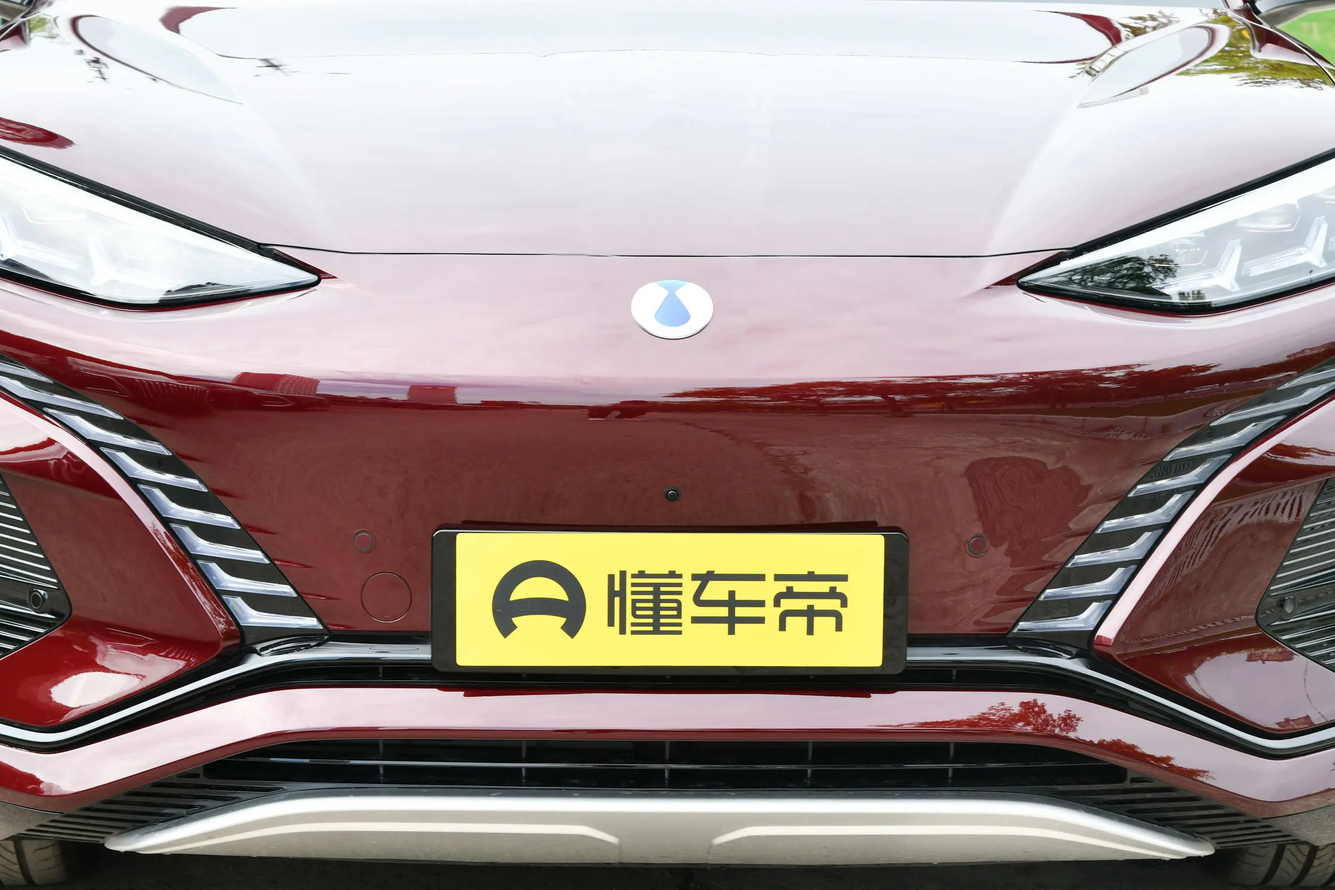DENZA: (631, 279, 713, 339)
